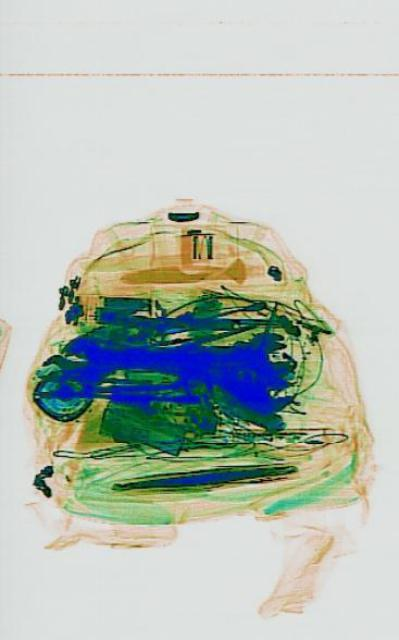Wrench: (165, 329, 294, 413), (59, 333, 188, 385), (38, 352, 99, 382)
